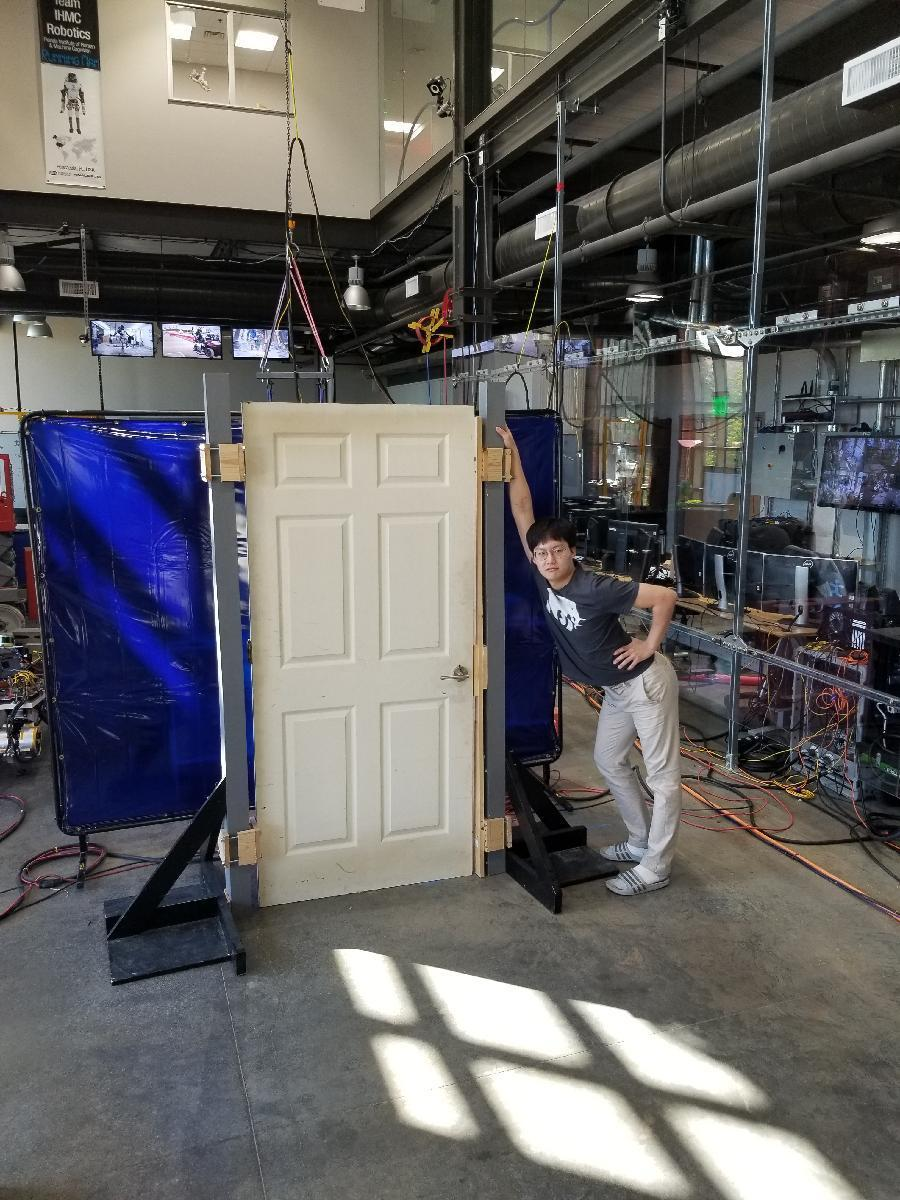door: (238, 398, 487, 895)
handle: (439, 664, 472, 684)
